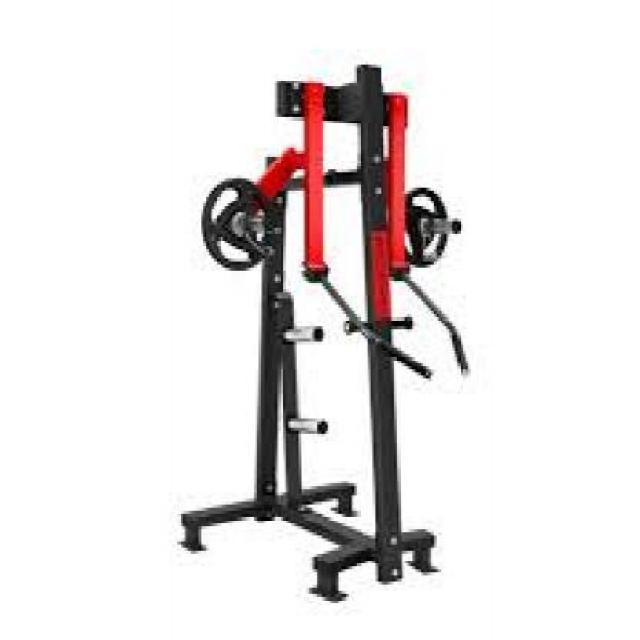lateral raises machine: (178, 63, 471, 602)
